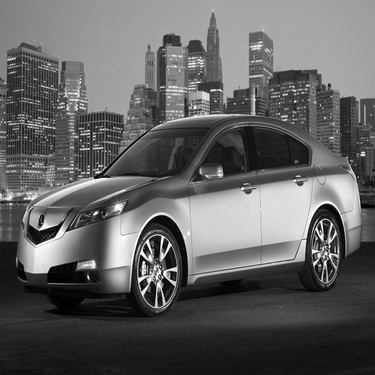car: (9, 106, 370, 320)
